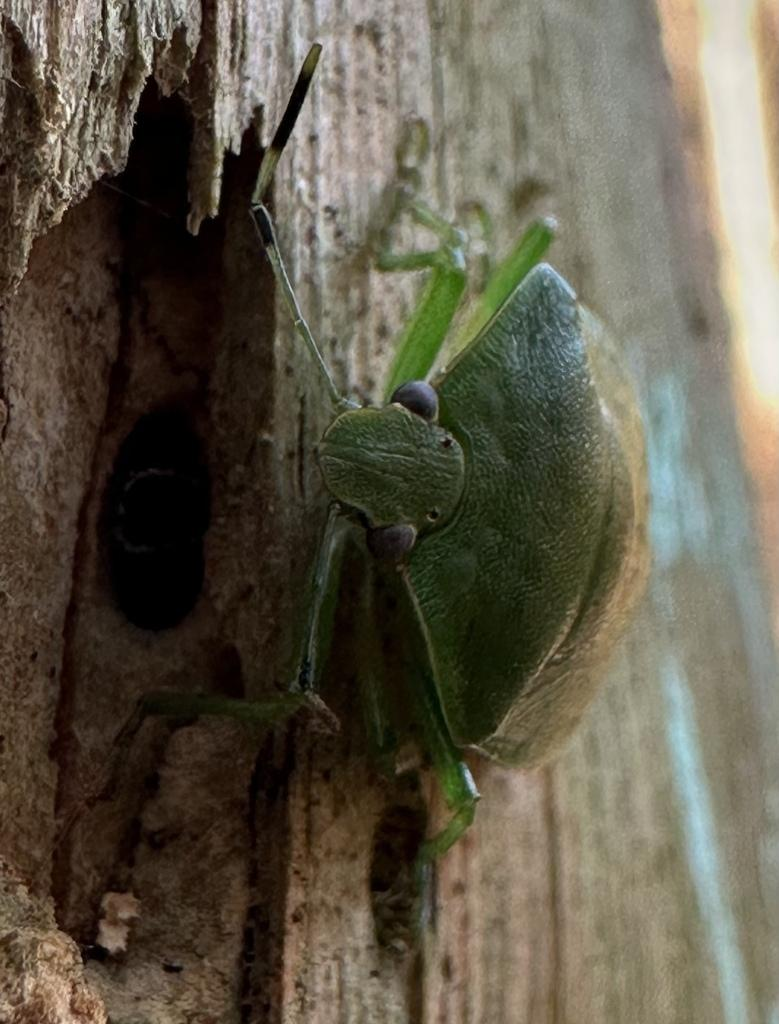stink_bugs: (85, 5, 740, 898)
